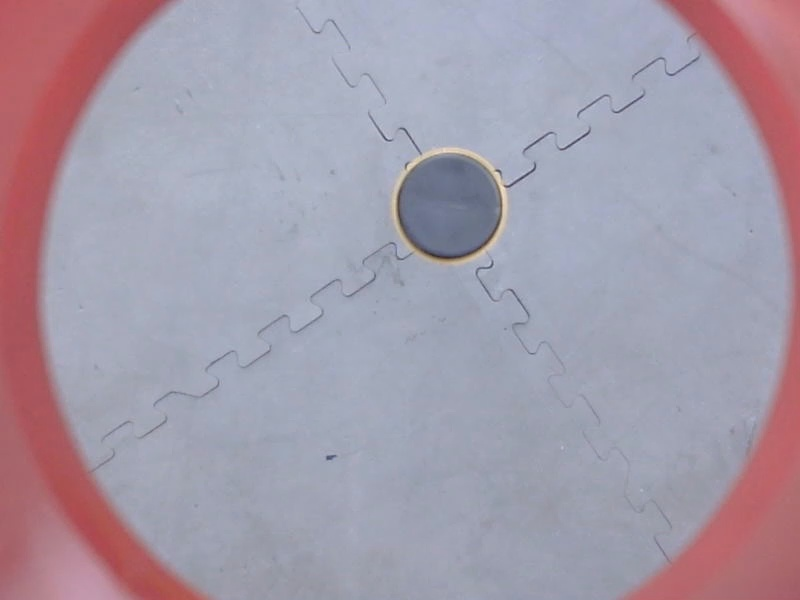tip: (387, 144, 514, 271)
